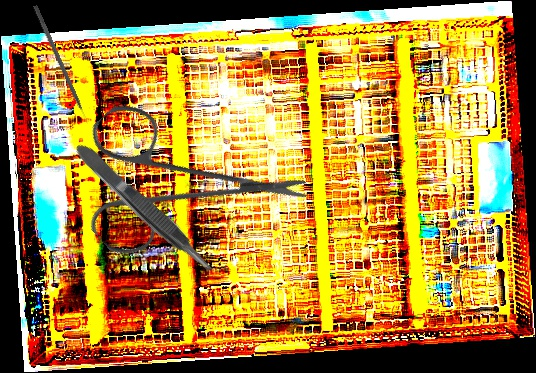Hook Surgical: (31, 4, 90, 126)
Iris Scissors: (40, 45, 313, 318)
Tissue Forceps: (71, 136, 221, 282)
